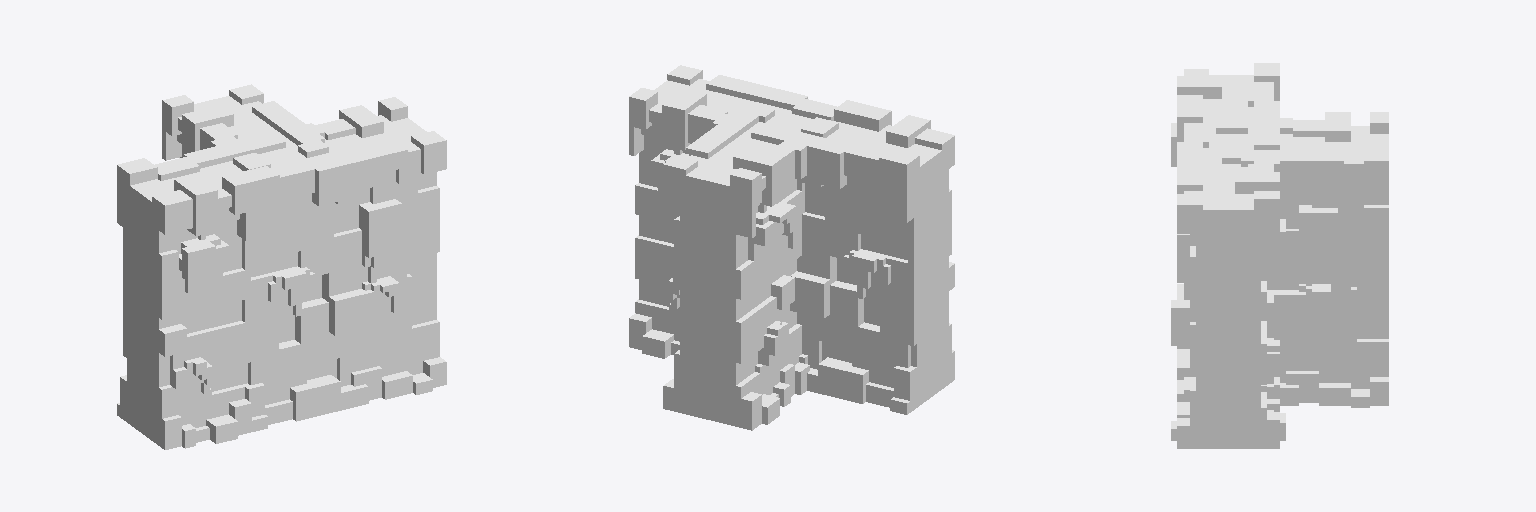
Rendered from TriWall.obj.
3 views of the same model, side by side, from view 1: azimuth 30°, elevation 25°; view 2: azimuth 150°, elevation 25°; view 3: azimuth 270°, elevation 25° (orthographic).
Parts seen in each view (by area): view 1: object 1; view 2: object 1; view 3: object 1.
Part boxes in pixels (left/top/right/bottom): object 1: left=117, top=84, right=446, bottom=449; object 1: left=629, top=65, right=954, bottom=430; object 1: left=1171, top=63, right=1388, bottom=448.
Size of the model in its own units: 5 by 4.3 by 3.4.